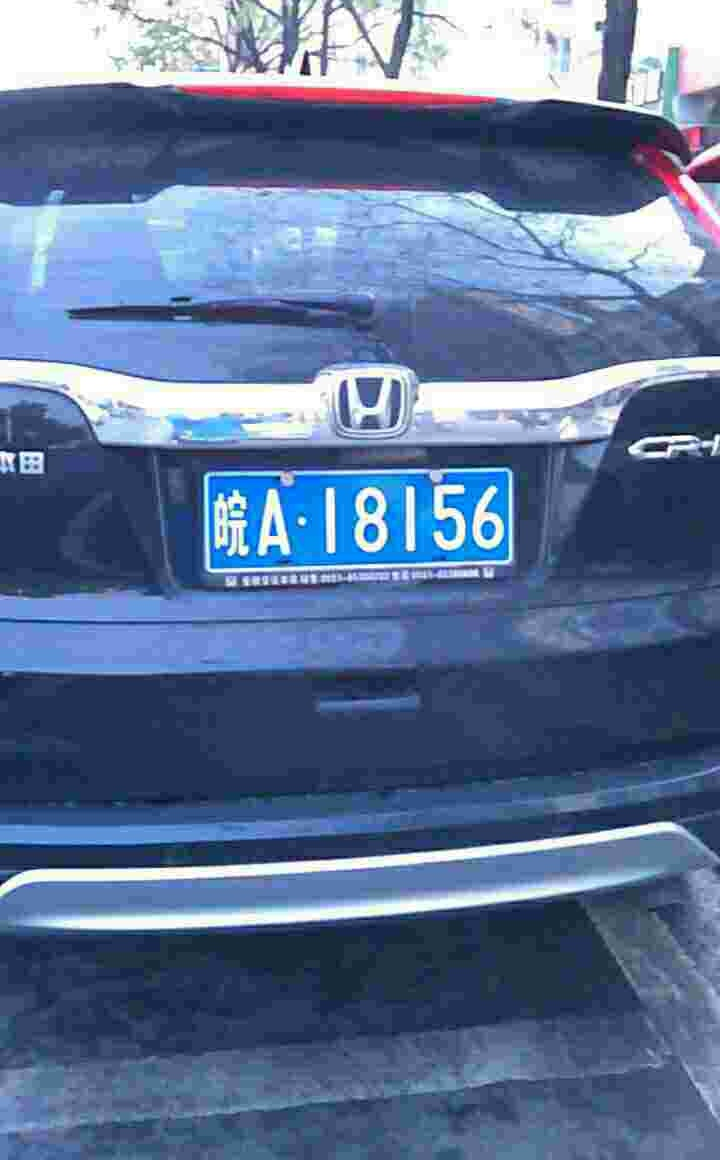license_plate: (194, 466, 523, 572)
